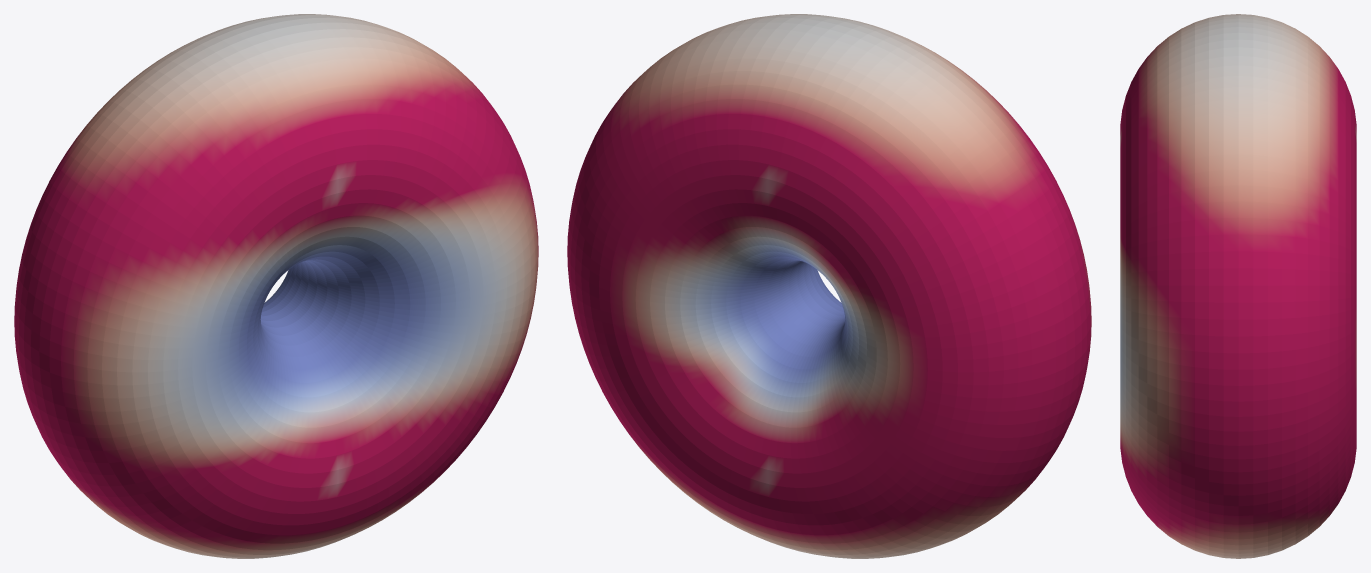
3 views of the same model, side by side, from view 1: azimuth 30°, elevation 25°; view 2: azimuth 150°, elevation 25°; view 3: azimuth 270°, elevation 25° (orthographic). The views are drawn at different scales.
Visible parts, largest first — view 1: world; view 2: world; view 3: world.
Part boxes in pixels (bbox=[...]): world: bbox=[14, 14, 538, 558]; world: bbox=[567, 14, 1091, 558]; world: bbox=[1120, 14, 1356, 558].
Size of the model in its own units: 22.4 by 22.4 by 9.71.
